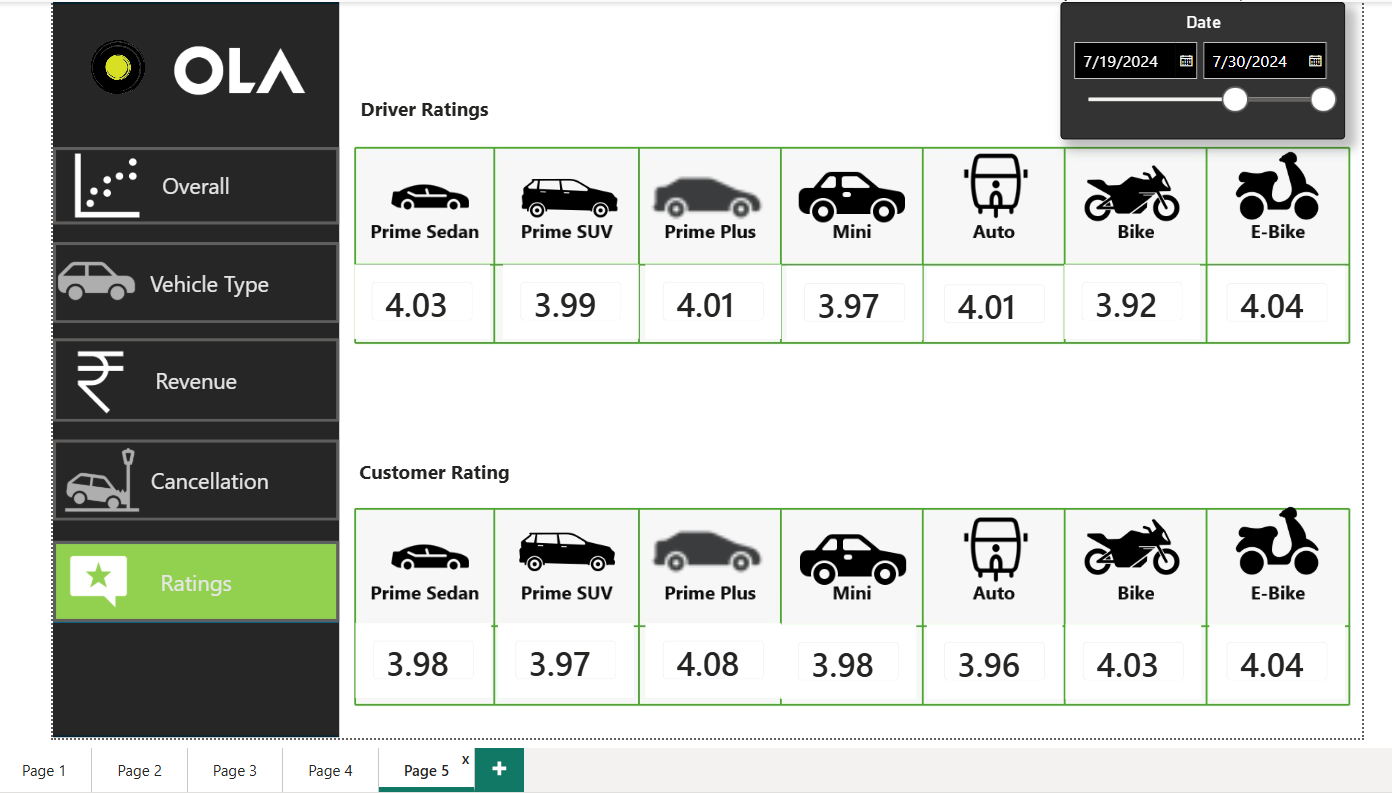

This screenshot's page, from the dashboard's own definition file:
{"tool":"powerbi","page":{"name":"Page 5","canvas":[1280,720],"ordinal":4},"visuals":[{"type":"image","box":[0,0,280,720.2],"z":0},{"type":"image","box":[118.6,33,128.4,68.5],"z":1000},{"type":"image","box":[8.6,17.1,110.1,92.9],"z":2000},{"type":"actionButton","box":[0,141.8,280,75.8],"z":3000},{"type":"image","box":[8.6,141.8,89.3,75.8],"z":4000},{"type":"image","box":[0,528.3,280,79.5],"z":5000},{"type":"image","box":[0,232.3,85.6,81.9],"z":6000},{"type":"actionButton","box":[0,234.8,280,79.5],"z":7000},{"type":"actionButton","box":[0,328.9,280,81.9],"z":8000},{"type":"image","box":[8.6,333.8,77,77],"z":9000},{"type":"actionButton","box":[0,428,280,79.5],"z":10000},{"type":"image","box":[0,428,96.6,79.5],"z":11000},{"type":"actionButton","box":[0,527,280,79.5],"z":12000},{"type":"image","box":[0,528.3,89.3,78.3],"z":13000},{"type":"image","box":[294.9,135,974.6,208],"z":14000},{"type":"image","box":[294.9,478,974.6,228.1],"z":15000},{"type":"image","box":[308.8,152.1,119.5,80.7],"z":16000},{"type":"image","box":[440.7,145.9,130.4,93.1],"z":17000},{"type":"image","box":[568,127.3,144.3,128.8],"z":18000},{"type":"image","box":[721.6,145.9,119.5,105.5],"z":19000},{"type":"image","box":[879.9,147.4,83.8,63.6],"z":20000},{"type":"image","box":[1005.6,141.2,100.9,93.1],"z":21000},{"type":"image","box":[1156.2,139.7,83.8,80.7],"z":22000},{"type":"image","box":[1156.2,487.3,83.8,80.7],"z":23000},{"type":"image","box":[1005.6,487.3,100.9,93.1],"z":24000},{"type":"image","box":[879.9,504.4,83.8,63.6],"z":25000},{"type":"image","box":[723.2,499.7,119.5,105.5],"z":26000},{"type":"image","box":[568,473.3,144.3,128.8],"z":27000},{"type":"image","box":[437.6,492,130.4,93.1],"z":28000},{"type":"image","box":[308.8,504.4,119.5,80.7],"z":29000},{"type":"cardVisual","fields":{"Data":["Avg(book.Driver_Ratings)"]},"box":[295,256.6,133.1,72.7],"z":30000},{"type":"cardVisual","fields":{"Data":["Avg(book.Driver_Ratings)"]},"box":[440.5,256.6,133.1,72.7],"z":31000},{"type":"cardVisual","fields":{"Data":["Avg(book.Driver_Ratings)"]},"box":[579.1,256.6,133.1,72.7],"z":32000},{"type":"cardVisual","fields":{"Data":["Avg(book.Driver_Ratings)"]},"box":[717.7,258,133.1,72.7],"z":33000},{"type":"cardVisual","fields":{"Data":["Avg(book.Driver_Ratings)"]},"box":[854.9,259.3,133.1,72.7],"z":34000},{"type":"cardVisual","fields":{"Data":["Avg(book.Driver_Ratings)"]},"box":[989.4,256.6,133.1,72.7],"z":35000},{"type":"cardVisual","fields":{"Data":["Avg(book.Driver_Ratings)"]},"box":[1130.7,258,133.1,72.7],"z":36000},{"type":"cardVisual","fields":{"Data":["Avg(book.Customer_Rating)"]},"box":[296.4,607.9,133.1,72.7],"z":37000},{"type":"textbox","box":[296.4,86.4,144.1,48],"z":38000},{"type":"textbox","box":[295,441.9,207.2,45.3],"z":39000},{"type":"cardVisual","fields":{"Data":["Avg(book.Customer_Rating)"]},"box":[435,607.9,133.1,72.7],"z":40000},{"type":"cardVisual","fields":{"Data":["Avg(book.Customer_Rating)"]},"box":[579.1,607.9,133.1,72.7],"z":41000},{"type":"cardVisual","fields":{"Data":["Avg(book.Customer_Rating)"]},"box":[712.2,609.3,133.1,72.7],"z":42000},{"type":"cardVisual","fields":{"Data":["Avg(book.Customer_Rating)"]},"box":[854.9,609.3,133.1,72.7],"z":43000},{"type":"cardVisual","fields":{"Data":["Avg(book.Customer_Rating)"]},"box":[990.7,609.3,133.1,72.7],"z":44000},{"type":"cardVisual","fields":{"Data":["Avg(book.Customer_Rating)"]},"box":[1130.7,609.3,133.1,72.7],"z":45000},{"type":"slicer","title":"Date","fields":{"Values":["book.Date"]},"box":[985.3,0,278.6,134.5],"z":46000}]}

Visuals, with their boxes on the page's 1280x720 design canvas (x1, y1, x2, y2). These are canvas units, not pixel positions in the 1392x793 screenshot, which may show the page scaled, cropped or inside an application window:
image: <bbox>0, 0, 280, 720</bbox>
image: <bbox>119, 33, 247, 102</bbox>
image: <bbox>9, 17, 119, 110</bbox>
actionButton: <bbox>0, 142, 280, 218</bbox>
image: <bbox>9, 142, 98, 218</bbox>
image: <bbox>0, 528, 280, 608</bbox>
image: <bbox>0, 232, 86, 314</bbox>
actionButton: <bbox>0, 235, 280, 314</bbox>
actionButton: <bbox>0, 329, 280, 411</bbox>
image: <bbox>9, 334, 86, 411</bbox>
actionButton: <bbox>0, 428, 280, 508</bbox>
image: <bbox>0, 428, 97, 508</bbox>
actionButton: <bbox>0, 527, 280, 606</bbox>
image: <bbox>0, 528, 89, 607</bbox>
image: <bbox>295, 135, 1270, 343</bbox>
image: <bbox>295, 478, 1270, 706</bbox>
image: <bbox>309, 152, 428, 233</bbox>
image: <bbox>441, 146, 571, 239</bbox>
image: <bbox>568, 127, 712, 256</bbox>
image: <bbox>722, 146, 841, 251</bbox>
image: <bbox>880, 147, 964, 211</bbox>
image: <bbox>1006, 141, 1106, 234</bbox>
image: <bbox>1156, 140, 1240, 220</bbox>
image: <bbox>1156, 487, 1240, 568</bbox>
image: <bbox>1006, 487, 1106, 580</bbox>
image: <bbox>880, 504, 964, 568</bbox>
image: <bbox>723, 500, 843, 605</bbox>
image: <bbox>568, 473, 712, 602</bbox>
image: <bbox>438, 492, 568, 585</bbox>
image: <bbox>309, 504, 428, 585</bbox>
cardVisual - Avg(book.Driver_Ratings): <bbox>295, 257, 428, 329</bbox>
cardVisual - Avg(book.Driver_Ratings): <bbox>440, 257, 574, 329</bbox>
cardVisual - Avg(book.Driver_Ratings): <bbox>579, 257, 712, 329</bbox>
cardVisual - Avg(book.Driver_Ratings): <bbox>718, 258, 851, 331</bbox>
cardVisual - Avg(book.Driver_Ratings): <bbox>855, 259, 988, 332</bbox>
cardVisual - Avg(book.Driver_Ratings): <bbox>989, 257, 1122, 329</bbox>
cardVisual - Avg(book.Driver_Ratings): <bbox>1131, 258, 1264, 331</bbox>
cardVisual - Avg(book.Customer_Rating): <bbox>296, 608, 430, 681</bbox>
textbox: <bbox>296, 86, 440, 134</bbox>
textbox: <bbox>295, 442, 502, 487</bbox>
cardVisual - Avg(book.Customer_Rating): <bbox>435, 608, 568, 681</bbox>
cardVisual - Avg(book.Customer_Rating): <bbox>579, 608, 712, 681</bbox>
cardVisual - Avg(book.Customer_Rating): <bbox>712, 609, 845, 682</bbox>
cardVisual - Avg(book.Customer_Rating): <bbox>855, 609, 988, 682</bbox>
cardVisual - Avg(book.Customer_Rating): <bbox>991, 609, 1124, 682</bbox>
cardVisual - Avg(book.Customer_Rating): <bbox>1131, 609, 1264, 682</bbox>
"Date" slicer: <bbox>985, 0, 1264, 134</bbox>
